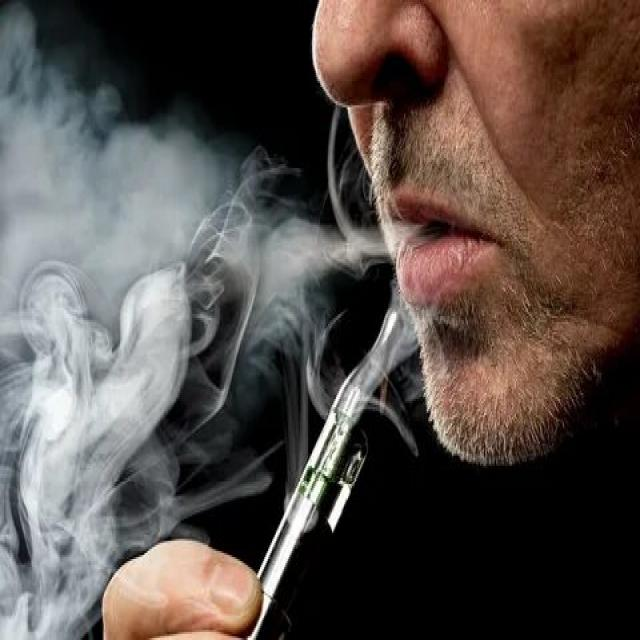cigarette: (232, 287, 418, 640)
